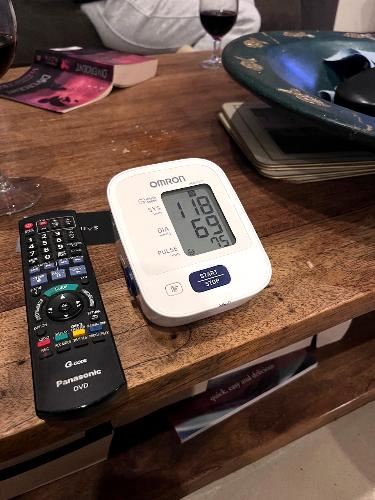bpm: (158, 171, 240, 264)
